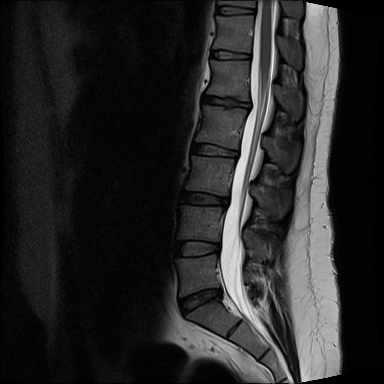Lumbar Disc Bulge (LDB): (171, 281, 229, 320), (193, 89, 257, 114)
Normal IVD: (167, 234, 223, 261), (178, 185, 233, 211), (189, 138, 242, 162), (206, 46, 254, 64), (214, 2, 257, 19)
Spinal Stenosis (SS): (239, 86, 262, 118)
